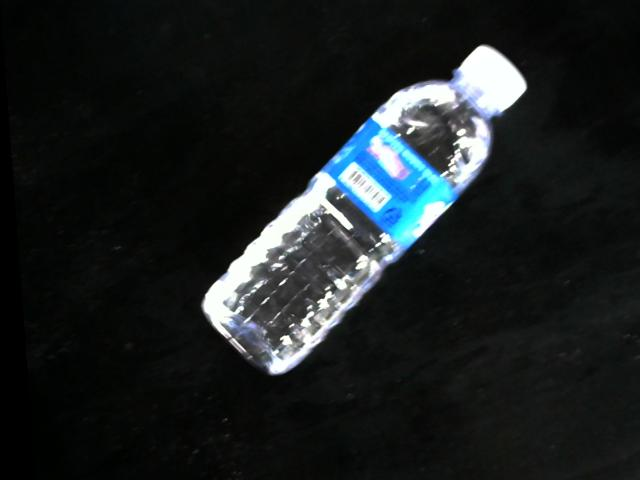bottle: (194, 44, 529, 379)
